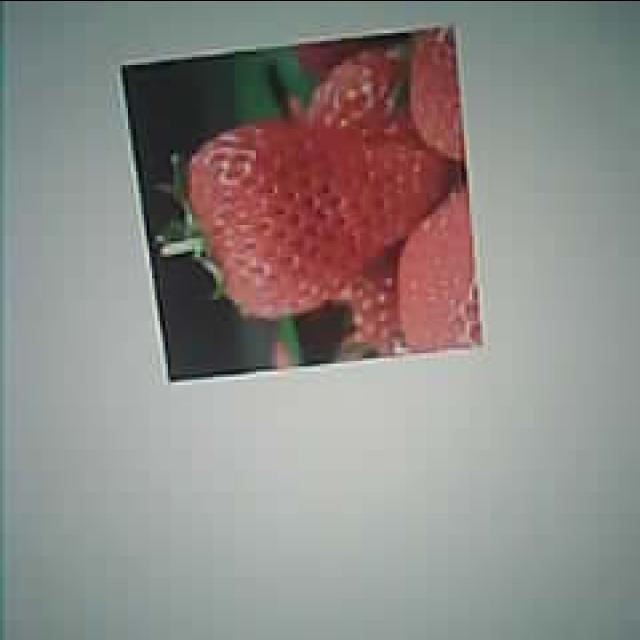ripe: (192, 124, 442, 320)
